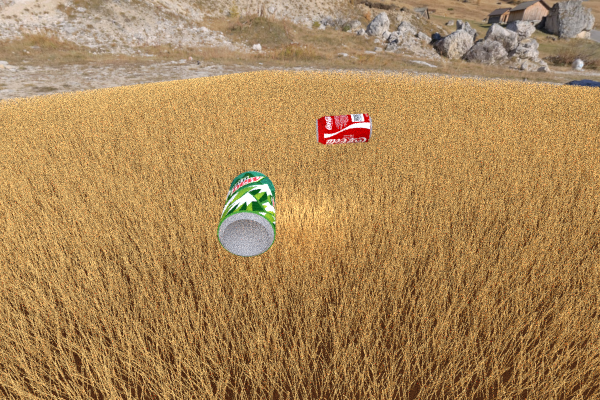bottle: (20, 159, 102, 209)
can: (217, 170, 275, 257), (315, 113, 372, 144)
